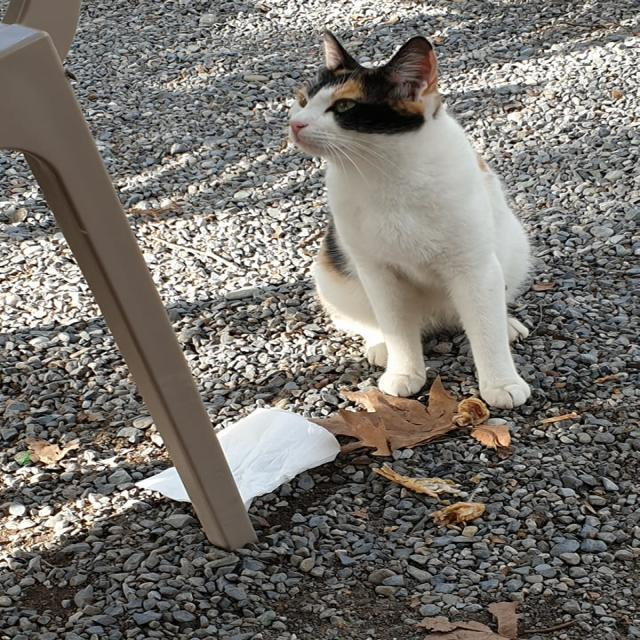cat: (290, 31, 530, 409)
